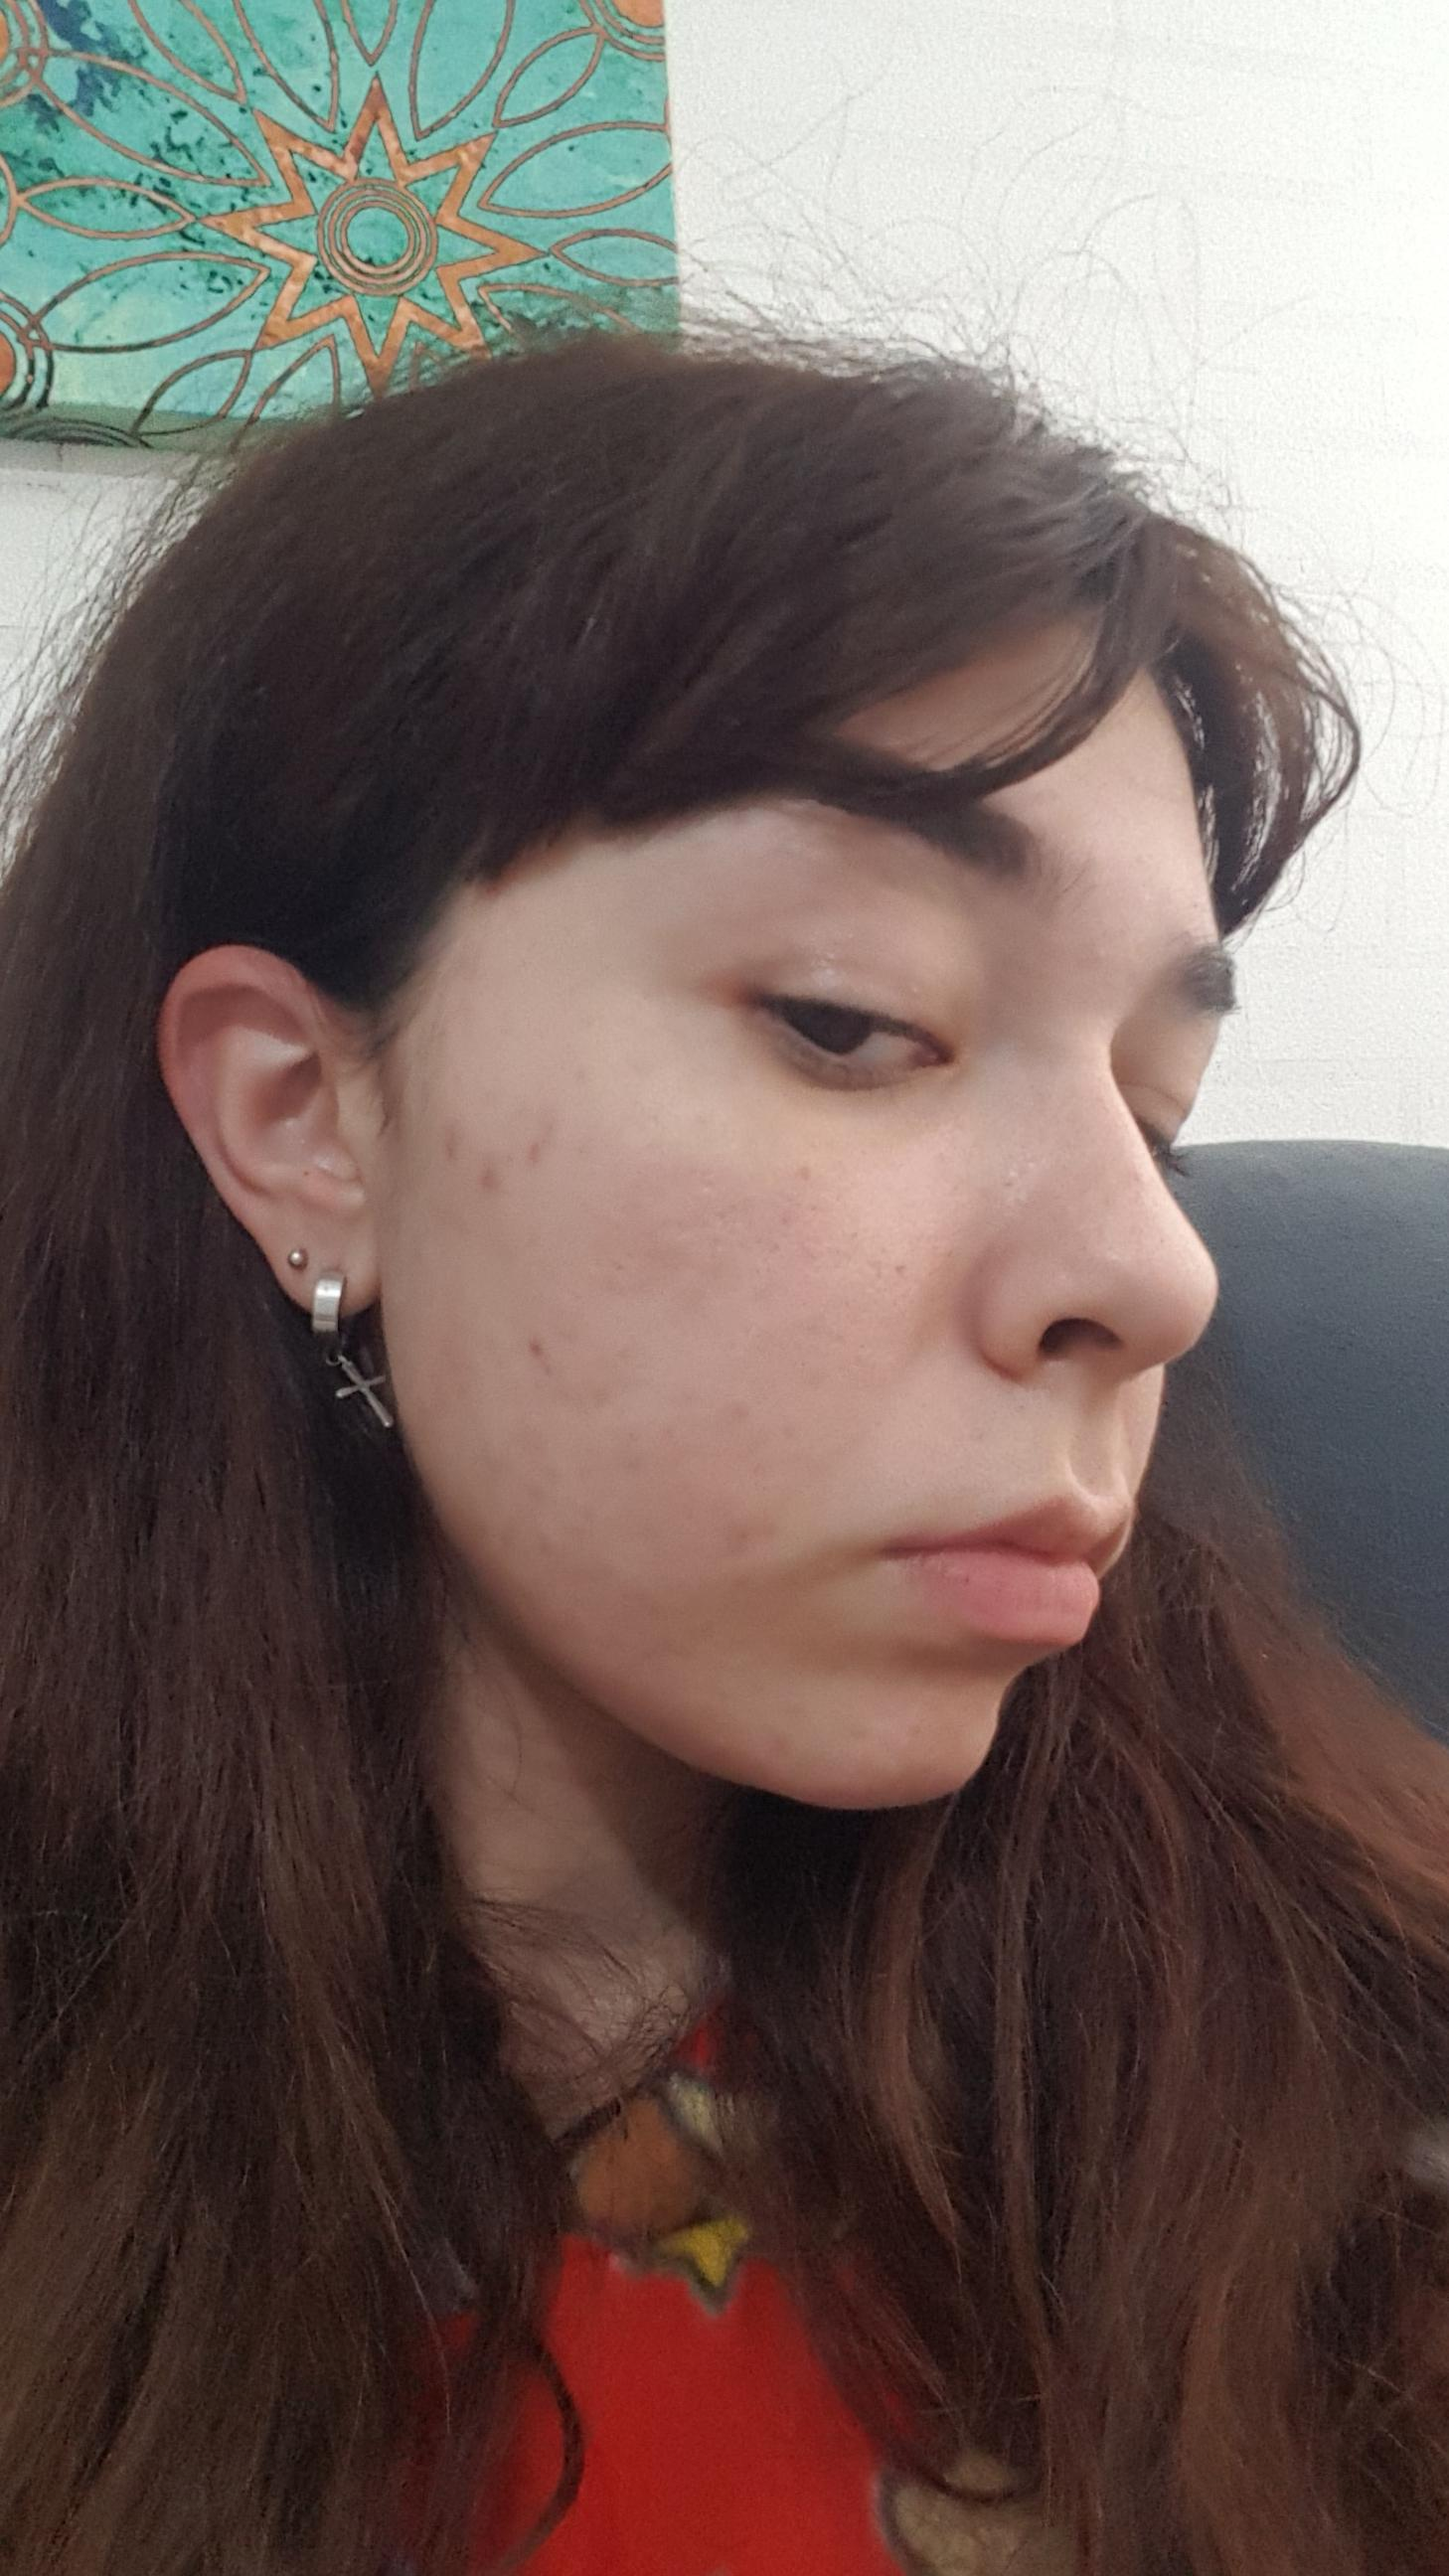Acne: (704, 1511, 784, 1553), (518, 1325, 570, 1389), (517, 1118, 563, 1168), (469, 1148, 506, 1201), (580, 1378, 617, 1424), (437, 1120, 472, 1164), (722, 1392, 757, 1428), (563, 1058, 594, 1086), (621, 1445, 648, 1474), (1088, 941, 1111, 968)
Englarged-Pores: (681, 1164, 925, 1318)
